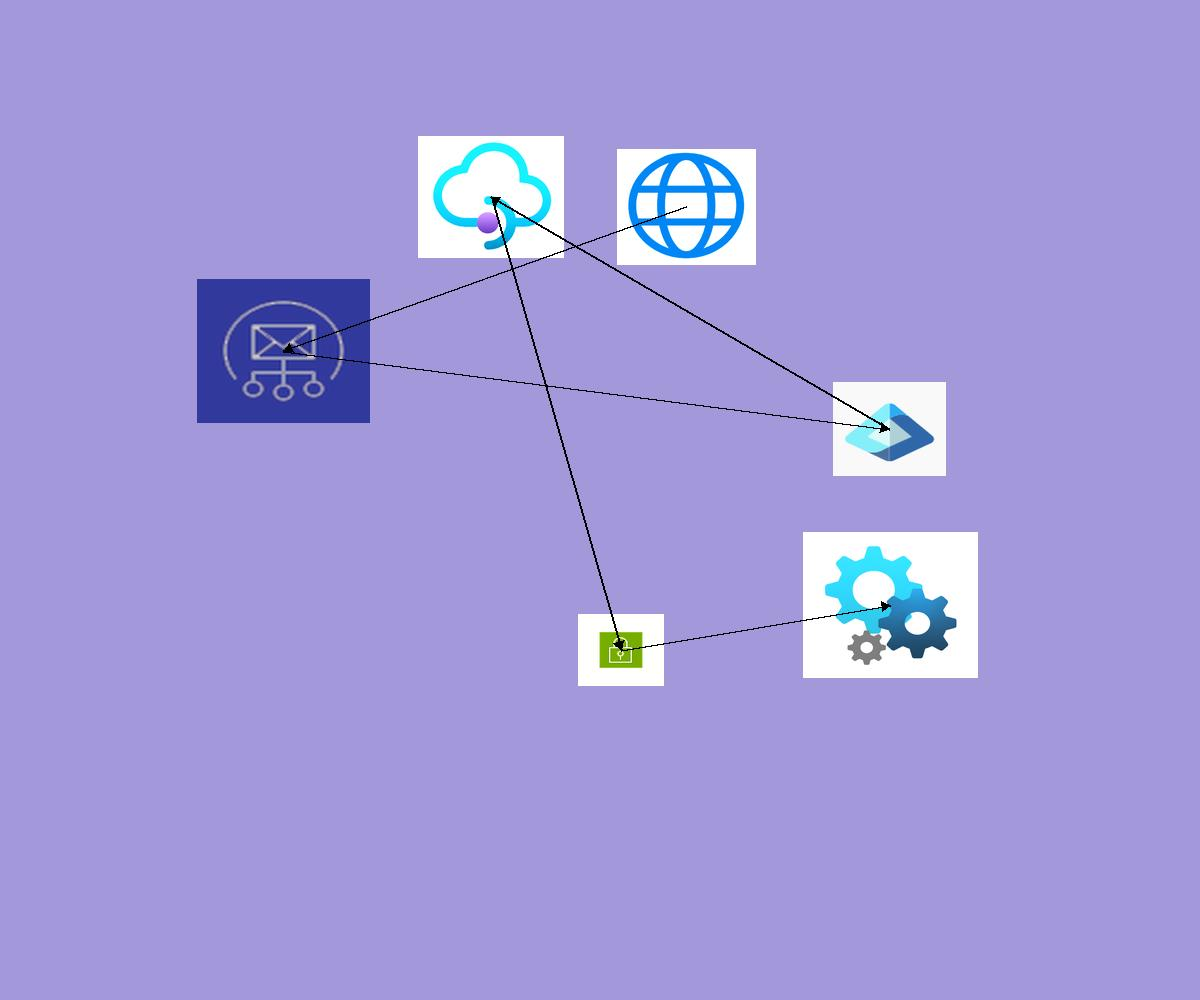AWS-Public-subnet: (578, 614, 664, 686)
AWS-Simple-Email-Service: (197, 279, 370, 423)
Azure_api: (803, 532, 978, 678)
Azure_api_gateway: (418, 136, 564, 258)
Azure_http: (617, 149, 756, 265)
Azure_microsoft_entra: (833, 382, 946, 476)
